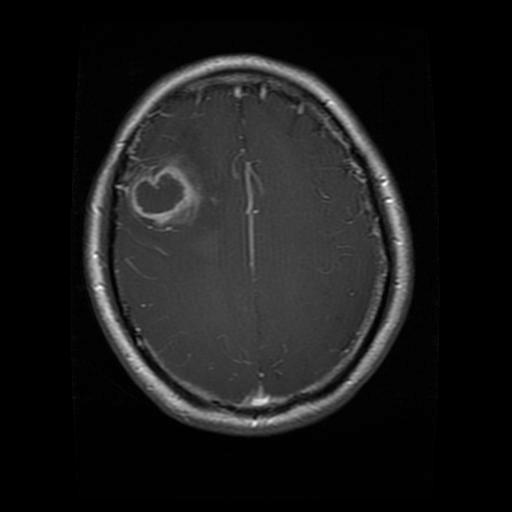Tumour-Glioma: (131, 159, 201, 227)
